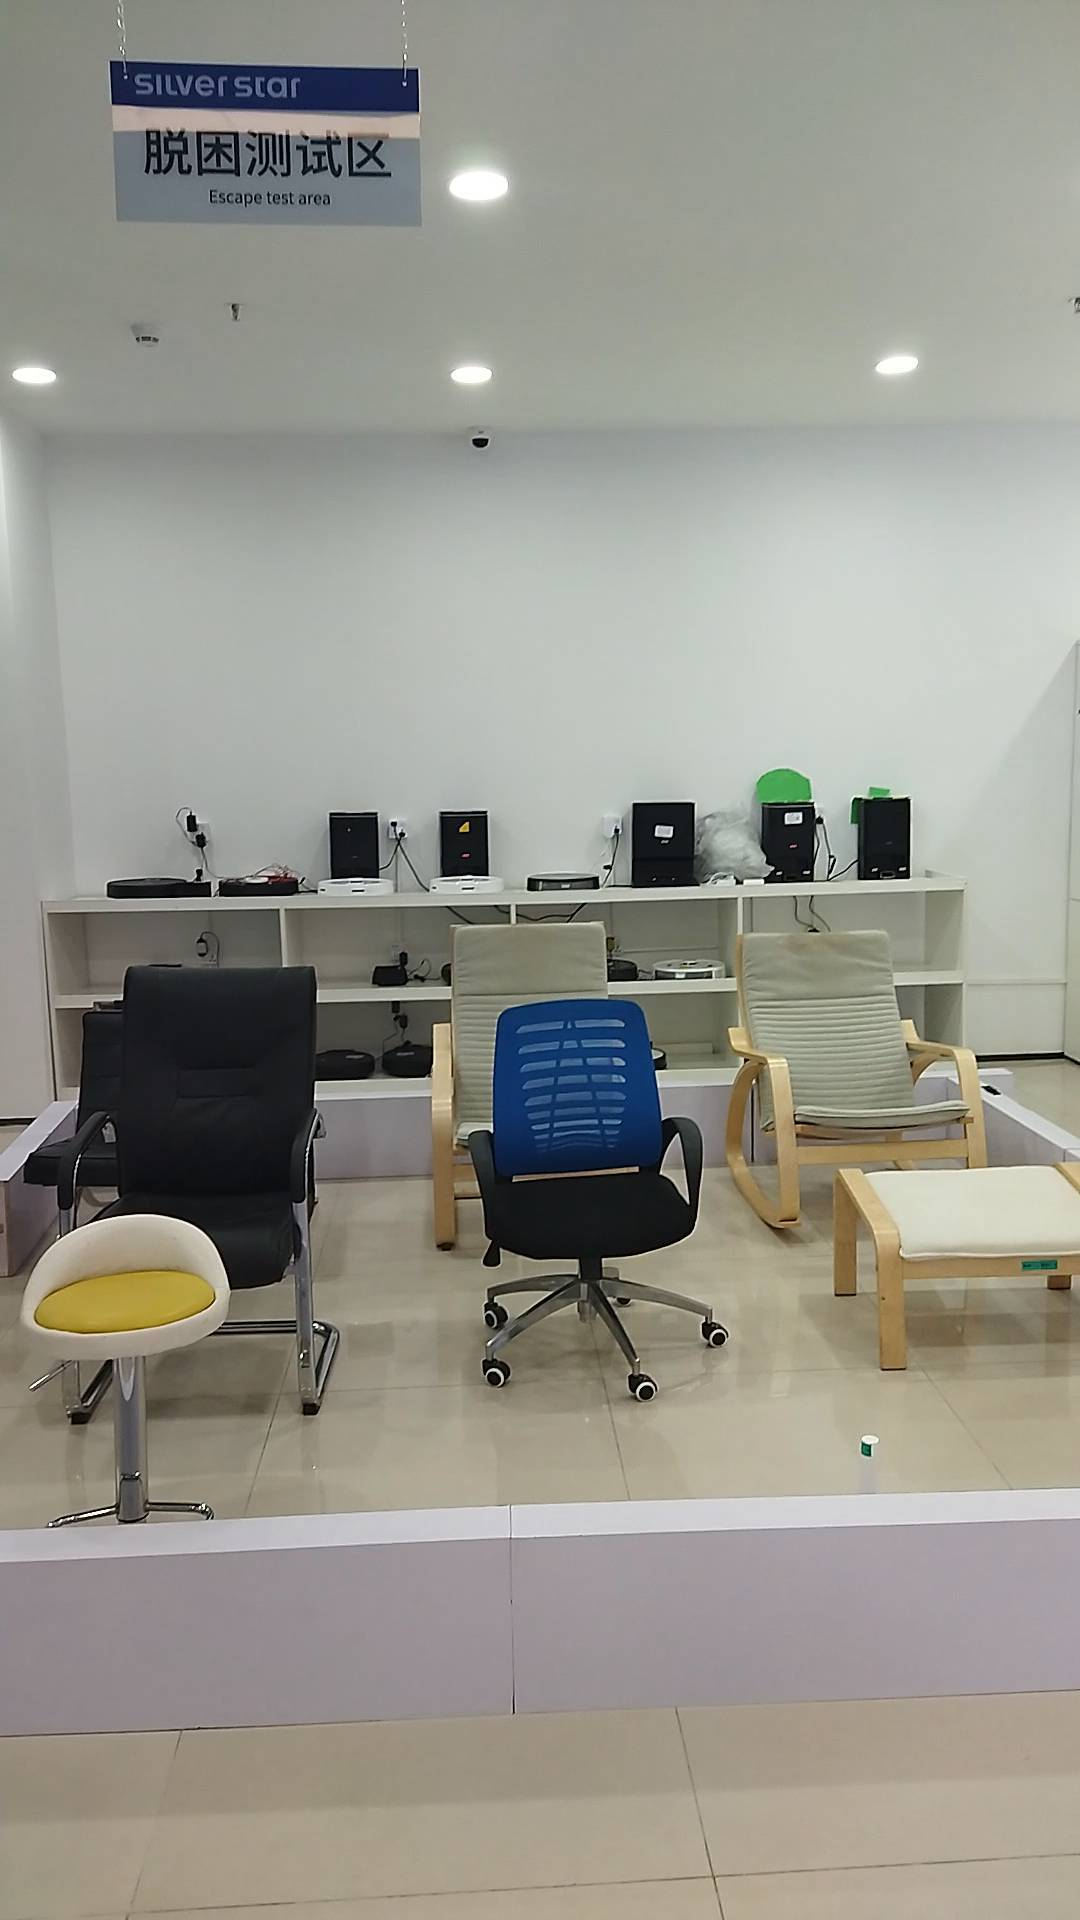dust collecting barrel: (628, 802, 702, 890), (761, 802, 818, 886), (857, 799, 914, 881), (324, 811, 382, 877), (436, 811, 491, 872)
recharge seat: (368, 963, 411, 993)
